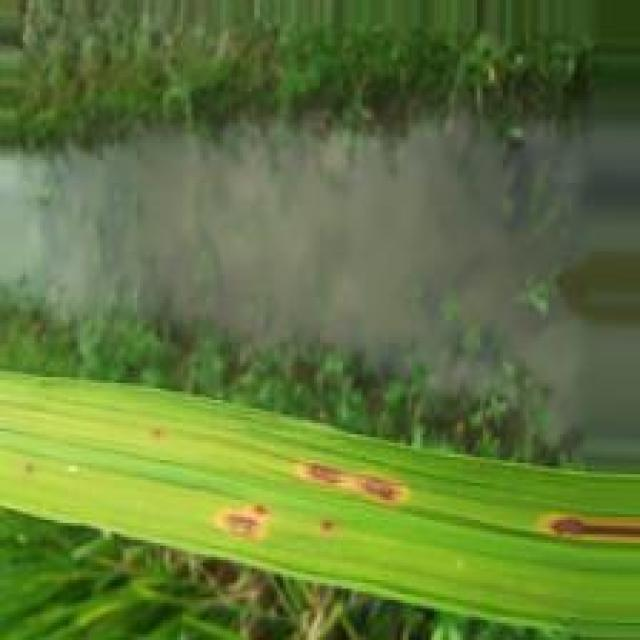Brown_Spot: (289, 457, 417, 507), (539, 507, 640, 542), (219, 502, 269, 547)
